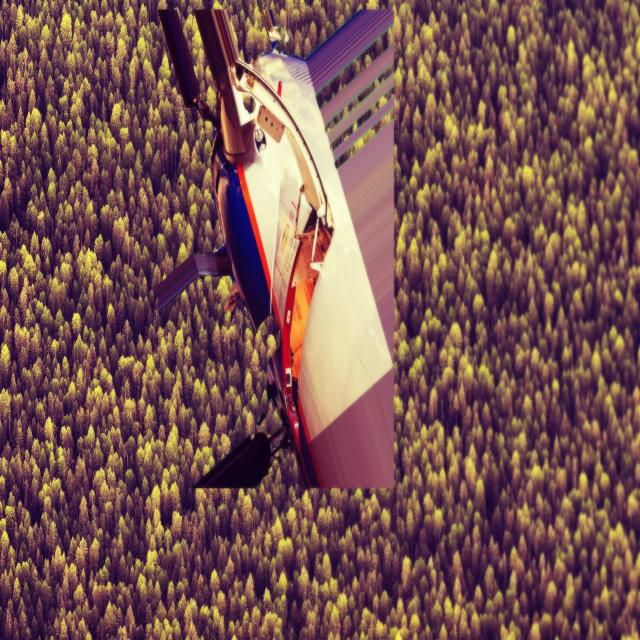airplane: (153, 4, 396, 493)
